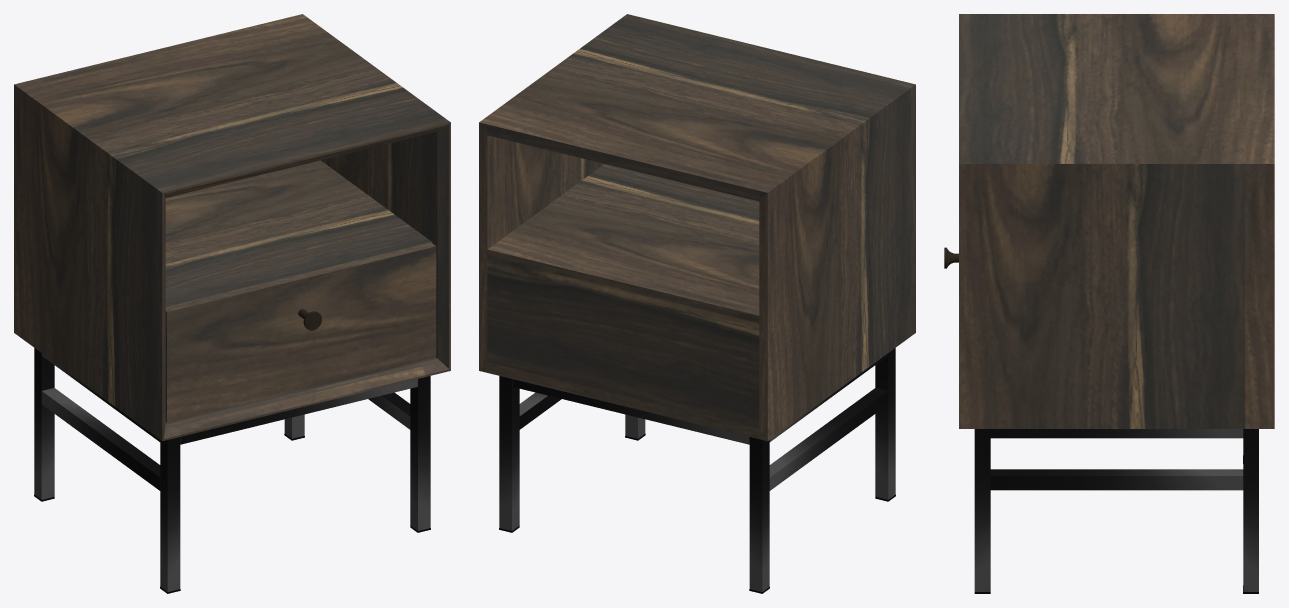
Rendered from 001_Mesa-de-noche.glb.
3 renders of one model, left to right at view 1: azimuth 30°, elevation 25°; view 2: azimuth 150°, elevation 25°; view 3: azimuth 270°, elevation 25°, orthographic. The views are drawn at different scales.
Visible parts, largest first — view 1: root; view 2: root; view 3: root.
Part boxes in pixels (<box>): root: <box>14,14,450,593</box>; root: <box>479,14,915,593</box>; root: <box>944,14,1274,593</box>.
Size of the model in its own units: 0.45 by 0.61 by 0.4188.
7 materials, 5 textured.
